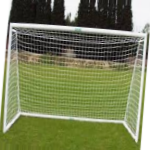goals: (4, 21, 148, 144)
